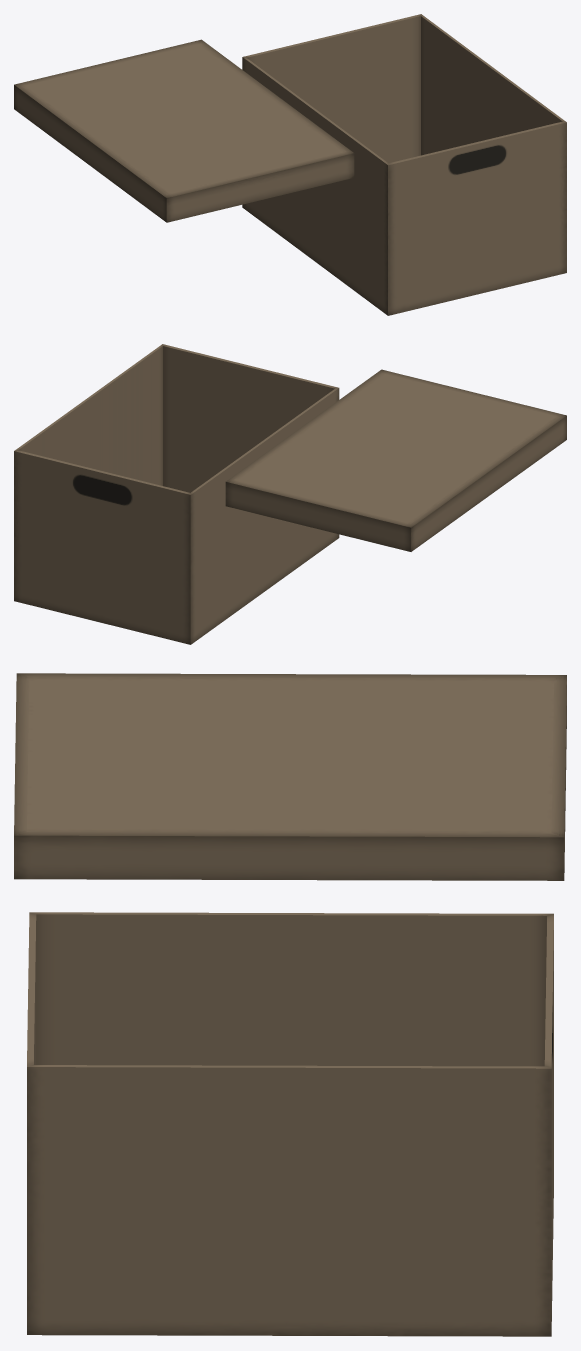
The model's file is open box.fbx.
3 views of the same model, one above another, from view 1: azimuth 30°, elevation 25°; view 2: azimuth 150°, elevation 25°; view 3: azimuth 270°, elevation 25° (orthographic). The views are drawn at different scales.
Parts seen in each view (by area): view 1: box1.001, box1.003; view 2: box1.001, box1.003; view 3: box1.001, box1.003.
Part boxes in pixels (left/top/right/bottom): box1.001: left=242, top=14, right=566, bottom=315; box1.003: left=14, top=39, right=354, bottom=222; box1.001: left=14, top=344, right=339, bottom=644; box1.003: left=225, top=369, right=566, bottom=551; box1.001: left=27, top=912, right=553, bottom=1336; box1.003: left=14, top=673, right=566, bottom=880.
Bounding box in the file's own units: 202 × 83.55 × 134.
Materials: 2 (2 with a texture image).
